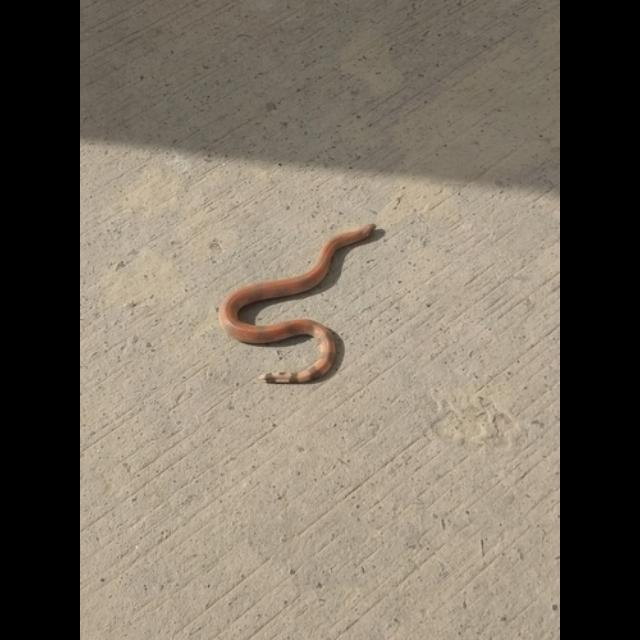snake: (219, 215, 385, 393)
